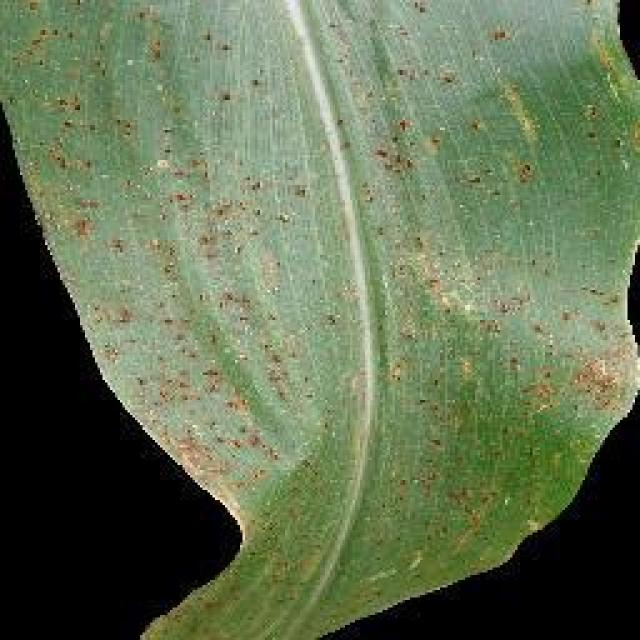Corn Common Rust: (71, 40, 640, 581)
